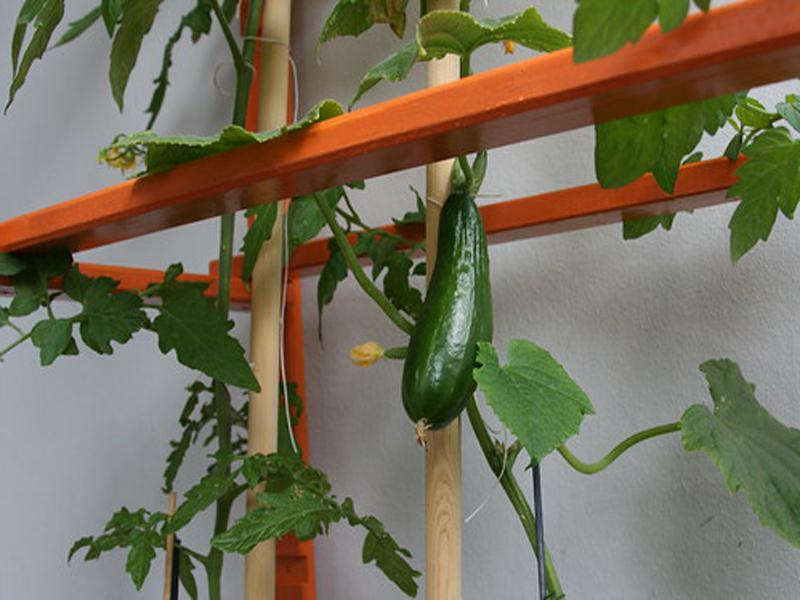Cucumber: (401, 193, 491, 447)
